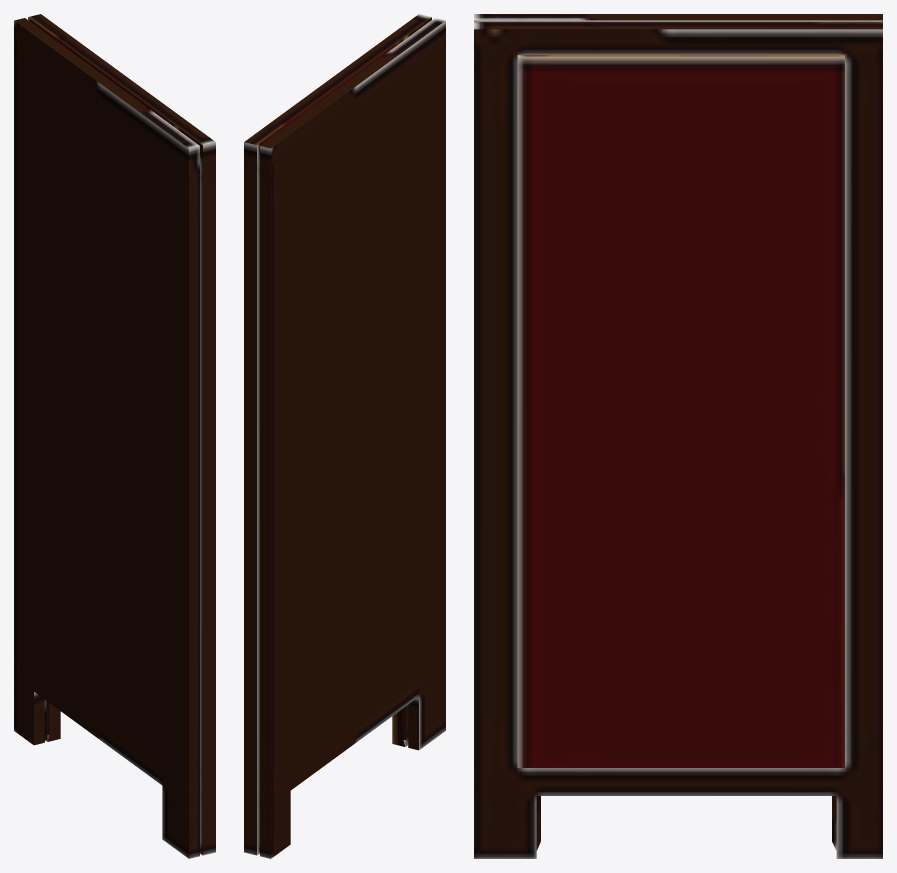
File: CDC_Partisi panel.fbx
3 renders of one model, left to right at view 1: azimuth 30°, elevation 25°; view 2: azimuth 150°, elevation 25°; view 3: azimuth 270°, elevation 25°, orthographic. The views are drawn at different scales.
Visible parts, largest first — view 1: prop_CDC_Partisi panel; view 2: prop_CDC_Partisi panel; view 3: prop_CDC_Partisi panel.
Part boxes in pixels (x1,y1,x2,y2): prop_CDC_Partisi panel: [14, 14, 215, 858]; prop_CDC_Partisi panel: [244, 14, 445, 858]; prop_CDC_Partisi panel: [474, 14, 882, 858].
Bounding box in the file's own units: 10.82 × 248 × 111.
